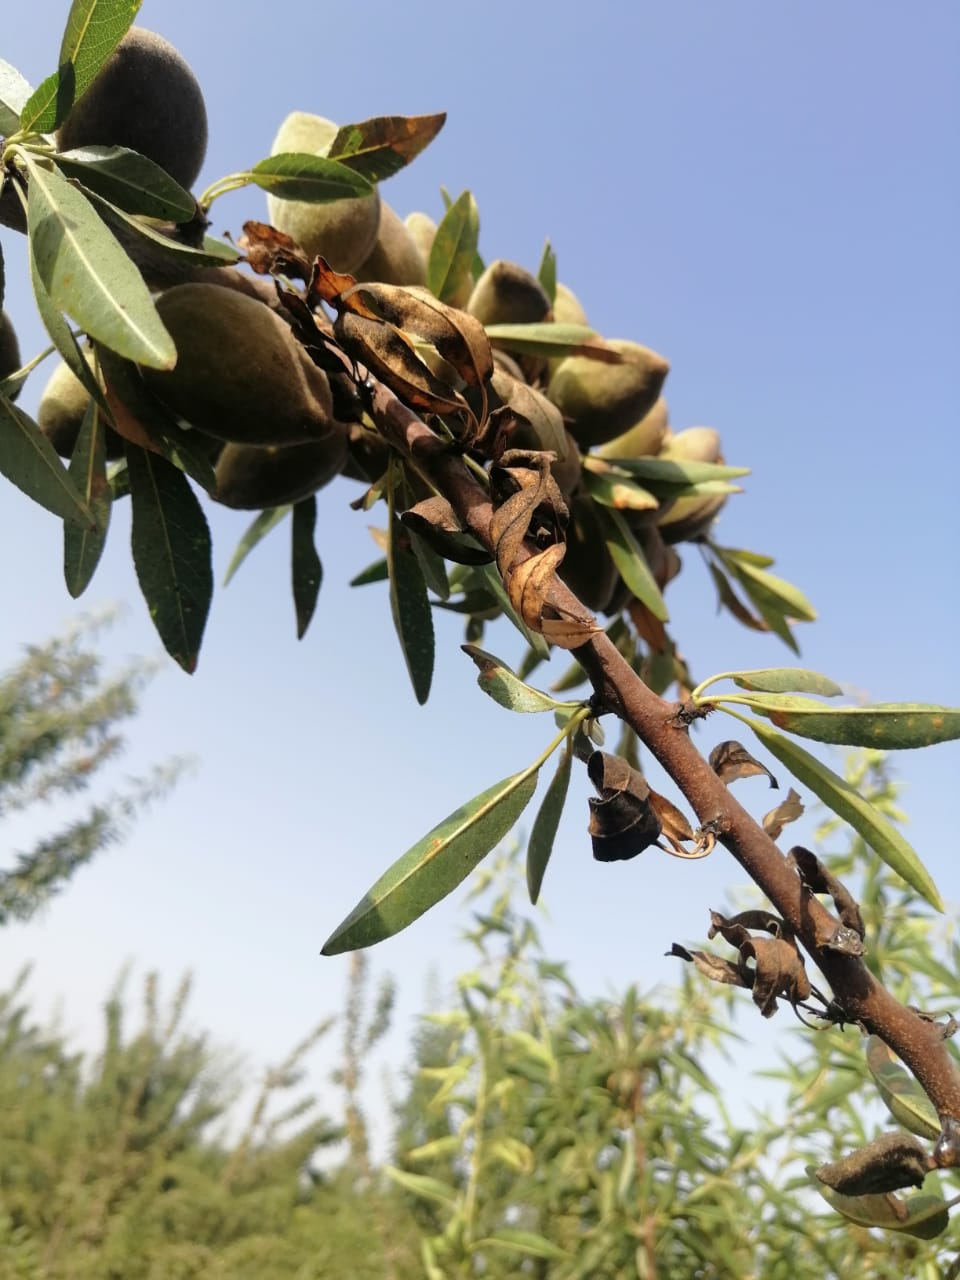scolytes: (240, 217, 869, 1027)
